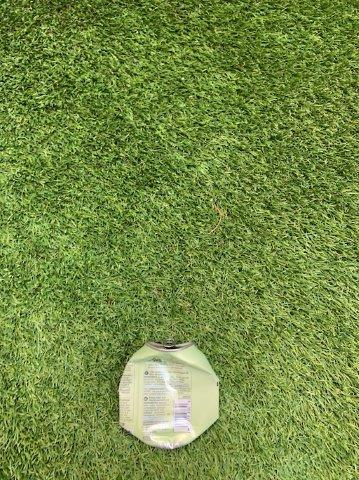kaleng: (119, 342, 218, 448)
